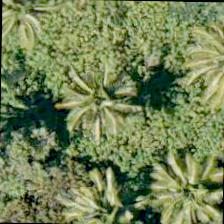Kelapa_Sawit: (59, 63, 151, 155), (134, 154, 223, 223), (1, 0, 60, 56)
